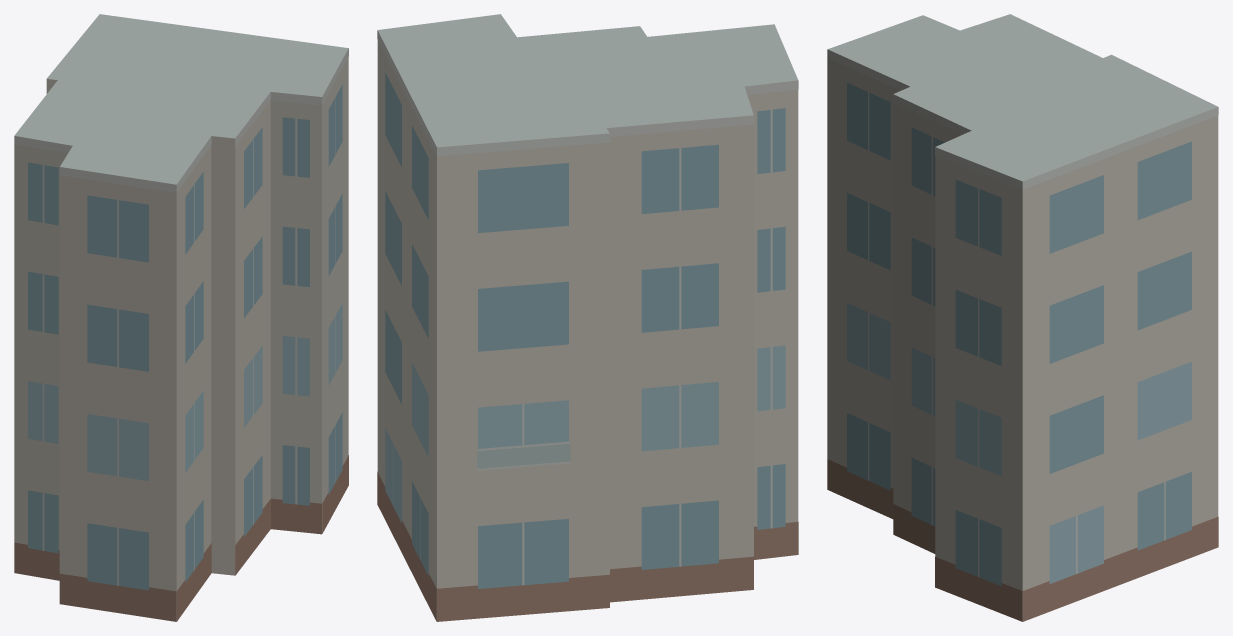
Rendered from survey-upis-32506477.glb.
3 renders of one model, left to right at view 1: azimuth 30°, elevation 25°; view 2: azimuth 150°, elevation 25°; view 3: azimuth 270°, elevation 25°, orthographic. The views are drawn at different scales.
Parts seen in each view (by area): view 1: survey-upis-32506477.tmp; view 2: survey-upis-32506477.tmp; view 3: survey-upis-32506477.tmp.
Part boxes in pixels (x1,y1,x2,y2): survey-upis-32506477.tmp: (14, 14, 348, 621); survey-upis-32506477.tmp: (377, 14, 798, 621); survey-upis-32506477.tmp: (827, 14, 1218, 621).
Size of the model in its own units: 10.45 by 12.8 by 10.31.
